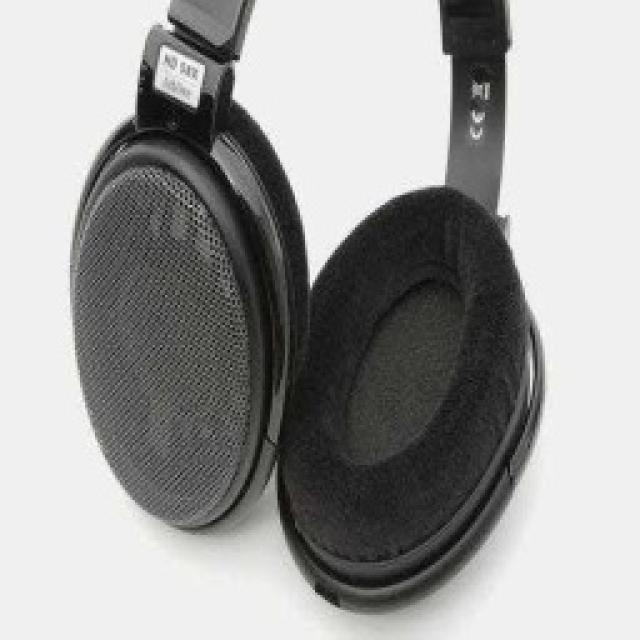headphones: (65, 0, 547, 610)
